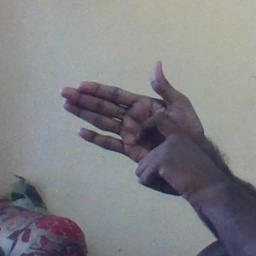R: (58, 58, 201, 196)
